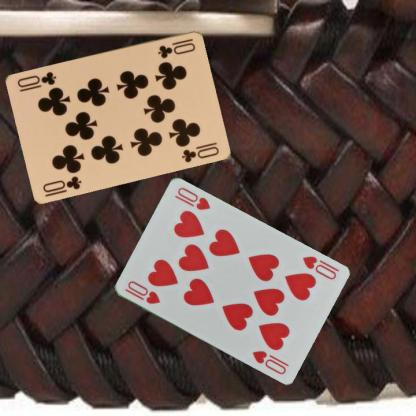10c: (40, 172, 82, 198), (155, 35, 197, 60)
10h: (122, 278, 161, 306), (300, 253, 338, 281)
